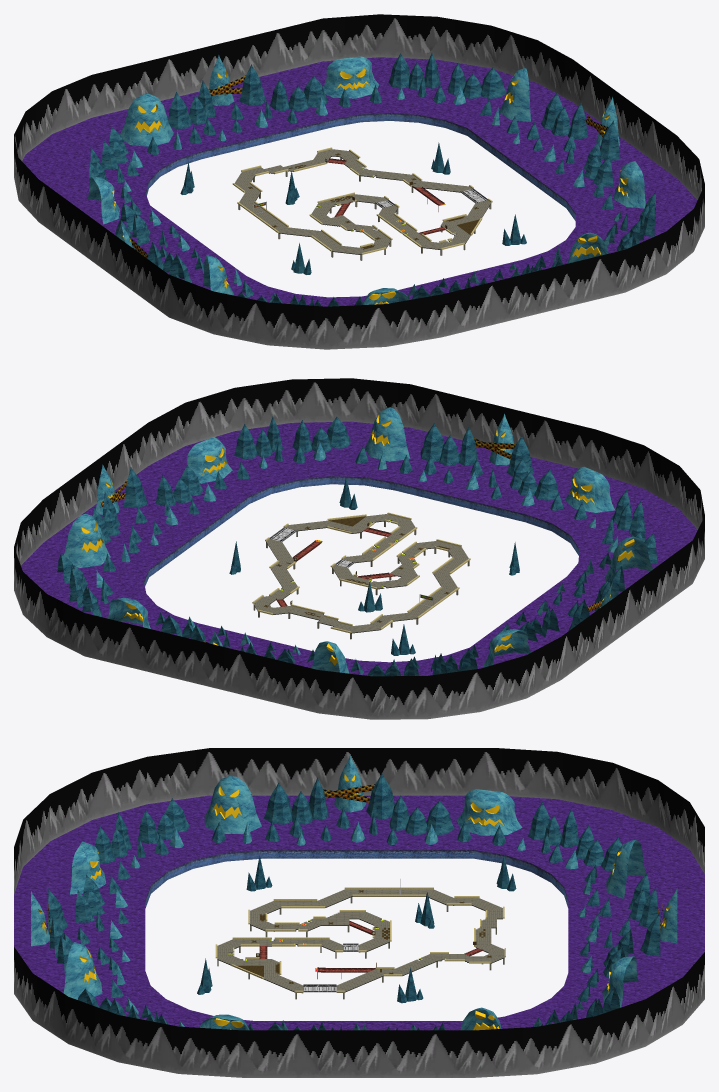
3 renders of one model, top to bottom at view 1: azimuth 30°, elevation 25°; view 2: azimuth 150°, elevation 25°; view 3: azimuth 270°, elevation 25°, orthographic. The views are drawn at different scales.
Parts seen in each view (by area): view 1: brokenpier2_Main-bgmountain, brokenpier2_Main-dirt, brokenpier2_Main-rock2, brokenpier2_Main-rock1, brokenpier2_Main-woodroad, brokenpier2_Main-cliff, brokenpier2_Main-block, brokenpier2_Main-eye1, brokenpier2_Main-chain, brokenpier2_Main-redbridge; view 2: brokenpier2_Main-bgmountain, brokenpier2_Main-dirt, brokenpier2_Main-rock2, brokenpier2_Main-rock1, brokenpier2_Main-woodroad, brokenpier2_Main-cliff, brokenpier2_Main-block, brokenpier2_Main-eye1, brokenpier2_Main-chain, brokenpier2_Main-redbridge; view 3: brokenpier2_Main-bgmountain, brokenpier2_Main-dirt, brokenpier2_Main-rock2, brokenpier2_Main-rock1, brokenpier2_Main-woodroad, brokenpier2_Main-cliff, brokenpier2_Main-block, brokenpier2_Main-eye1, brokenpier2_Main-woodside, brokenpier2_Main-redbridge, brokenpier2_Main-chain, brokenpier2_Main-darkwoodroad.
Boxes of the visible parts, x1,y1,x2,y2 form: brokenpier2_Main-bgmountain: [14, 14, 704, 349]; brokenpier2_Main-dirt: [22, 57, 697, 306]; brokenpier2_Main-rock2: [89, 53, 655, 306]; brokenpier2_Main-rock1: [87, 55, 645, 304]; brokenpier2_Main-woodroad: [234, 149, 491, 260]; brokenpier2_Main-cliff: [145, 113, 575, 220]; brokenpier2_Main-block: [232, 147, 492, 254]; brokenpier2_Main-eye1: [112, 68, 628, 304]; brokenpier2_Main-chain: [129, 75, 608, 258]; brokenpier2_Main-redbridge: [327, 158, 444, 235]; brokenpier2_Main-bgmountain: [14, 378, 704, 719]; brokenpier2_Main-dirt: [21, 421, 697, 675]; brokenpier2_Main-rock2: [57, 416, 657, 676]; brokenpier2_Main-rock1: [63, 407, 652, 673]; brokenpier2_Main-woodroad: [253, 514, 469, 639]; brokenpier2_Main-cliff: [144, 476, 579, 586]; brokenpier2_Main-block: [252, 512, 470, 633]; brokenpier2_Main-eye1: [81, 414, 634, 665]; brokenpier2_Main-chain: [100, 438, 602, 643]; brokenpier2_Main-redbridge: [276, 527, 397, 606]; brokenpier2_Main-bgmountain: [14, 748, 704, 1077]; brokenpier2_Main-dirt: [14, 795, 704, 1030]; brokenpier2_Main-rock2: [48, 773, 660, 1030]; brokenpier2_Main-rock1: [31, 755, 677, 1030]; brokenpier2_Main-woodroad: [217, 889, 504, 999]; brokenpier2_Main-cliff: [145, 850, 568, 908]; brokenpier2_Main-block: [215, 887, 505, 992]; brokenpier2_Main-eye1: [38, 774, 670, 1030]; brokenpier2_Main-woodside: [217, 896, 504, 992]; brokenpier2_Main-redbridge: [259, 920, 483, 979]; brokenpier2_Main-chain: [46, 784, 662, 934]; brokenpier2_Main-darkwoodroad: [237, 890, 491, 983].
Bounding box in the file's own units: 159541 × 15279 × 164951.
22 materials, 21 textured.
